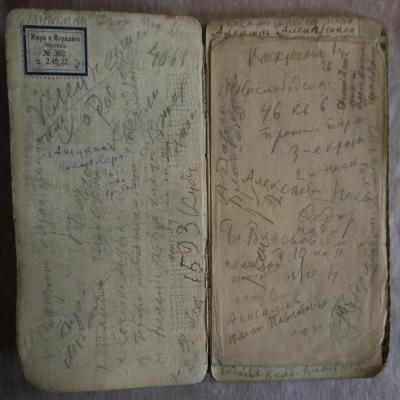document: (12, 16, 388, 378)
